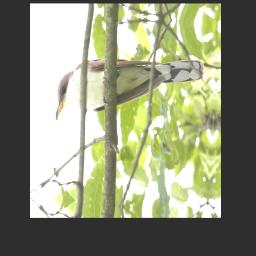Cuckoo: (55, 42, 206, 141)
